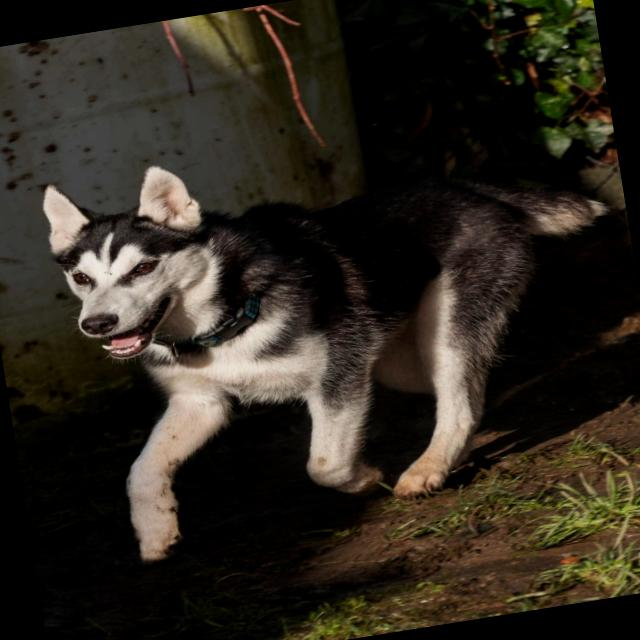siberian_husky_dog: (20, 140, 254, 386)
